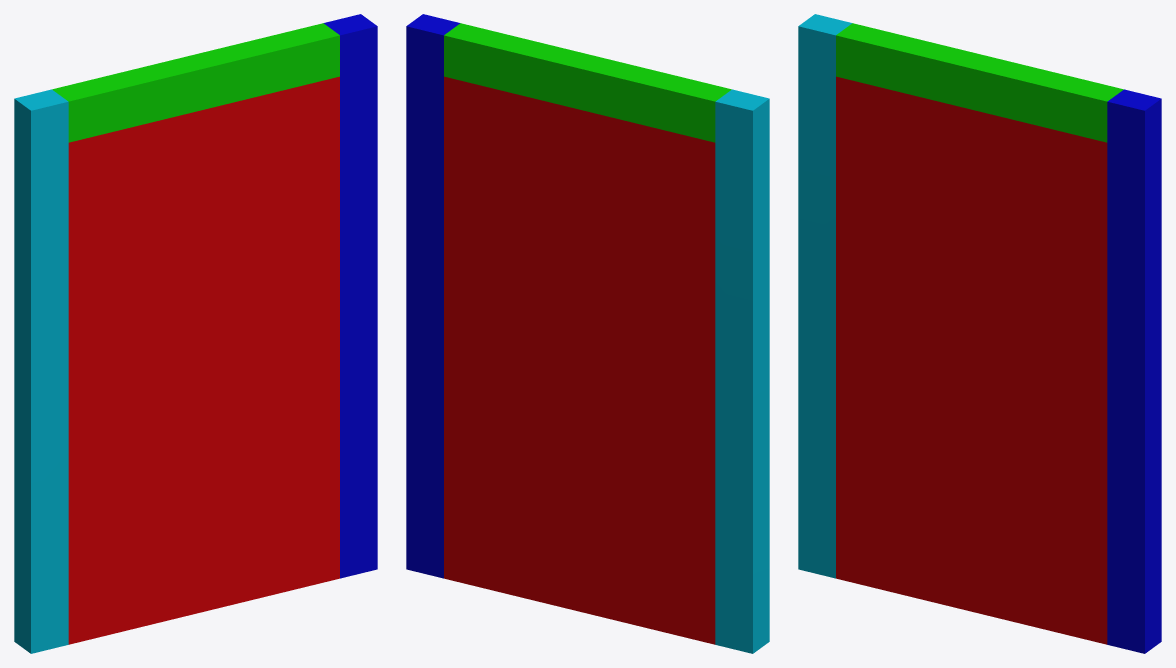
Rendered from wall.fbx.
The picture shows the model from 3 angles, left to right: view 1: azimuth 30°, elevation 25°; view 2: azimuth 150°, elevation 25°; view 3: azimuth 330°, elevation 25°; orthographic projection.
Visible parts, largest first — view 1: Mesh; view 2: Mesh; view 3: Mesh.
Part boxes in pixels (box(x1,y1,x2,y2)): Mesh: box(14, 14, 377, 653); Mesh: box(406, 14, 769, 653); Mesh: box(798, 14, 1161, 653).
Size of the model in its own units: 203 by 304 by 17.
